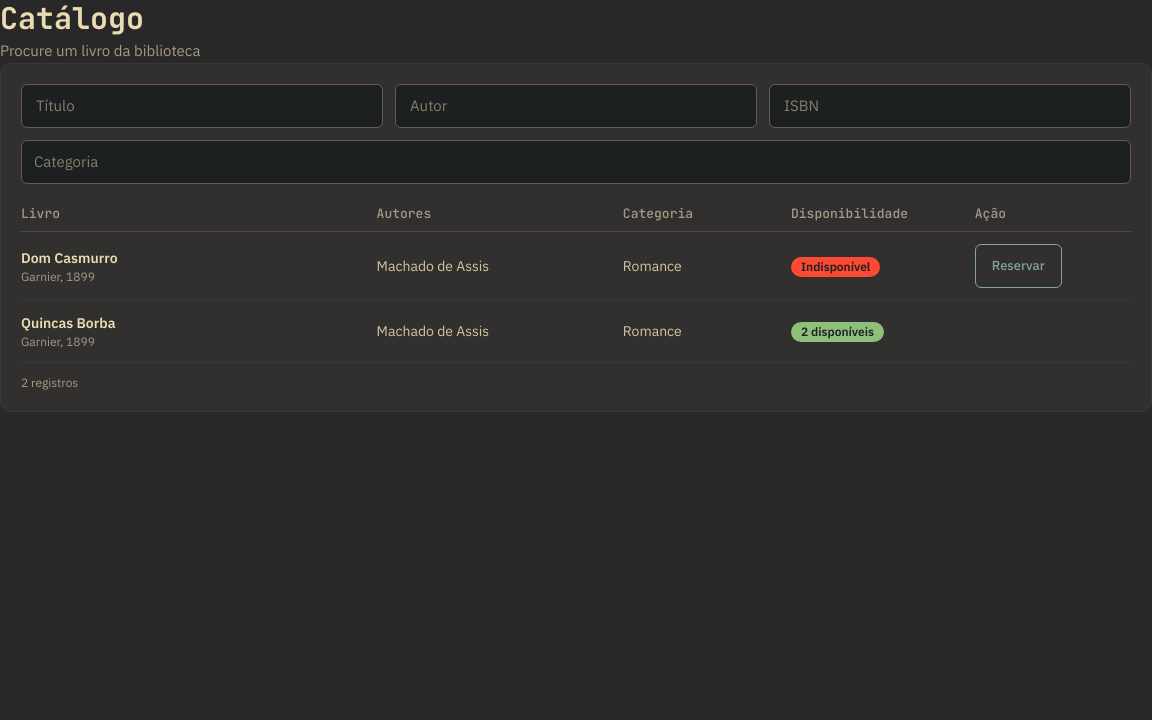
Test: catálogo › reserva depois de confirmar e mostra o lugar na fila
Step 1. Click the button with aria-label "Reservar Dom Casmurro" → (1018, 266), box [975,244,1062,288]
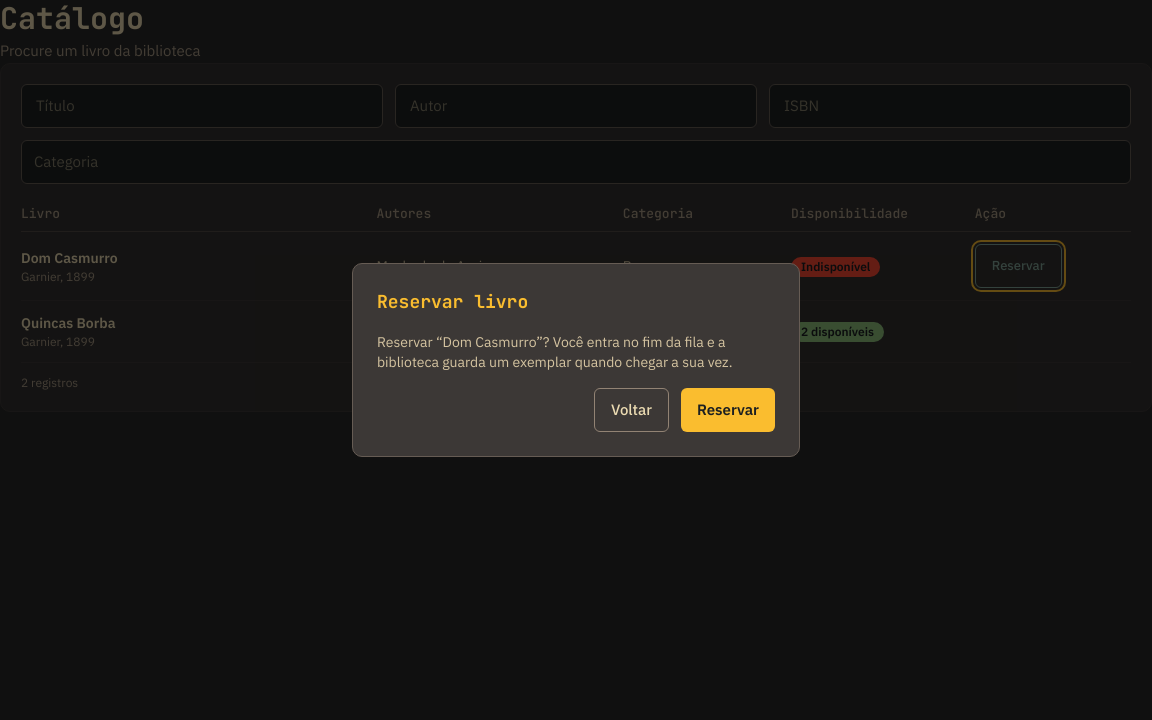
Step 2. Click the button "Reservar" → (728, 410), box [681,388,775,432]
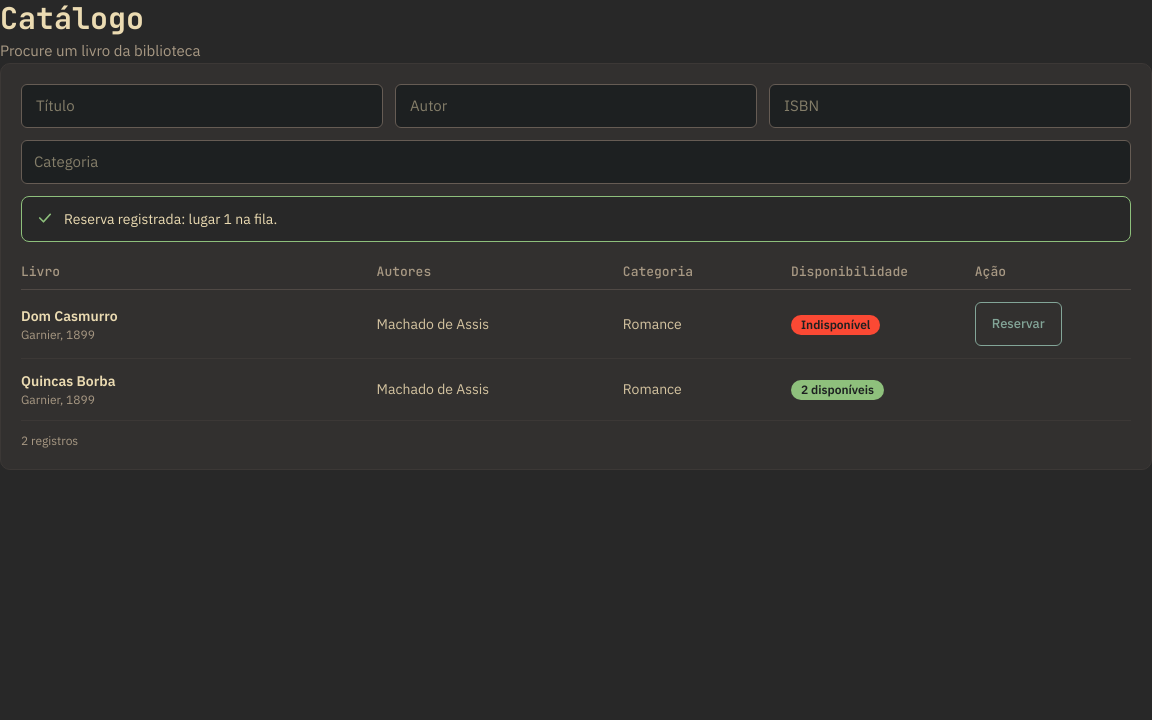
Check: the text "Reserva registrada: lugar 1 na fila." is shown, box [64,208,277,228]
